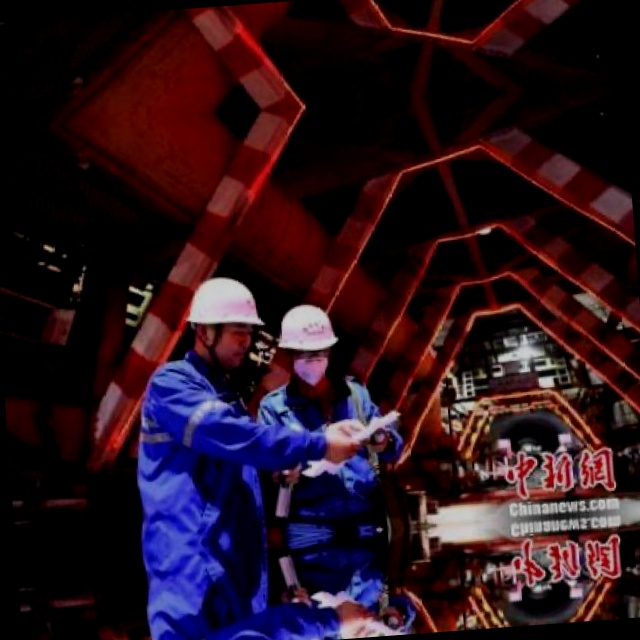helmet: (183, 265, 263, 364), (271, 299, 335, 381)
person: (118, 268, 262, 526), (266, 300, 392, 530), (117, 538, 261, 637), (266, 534, 394, 637)
